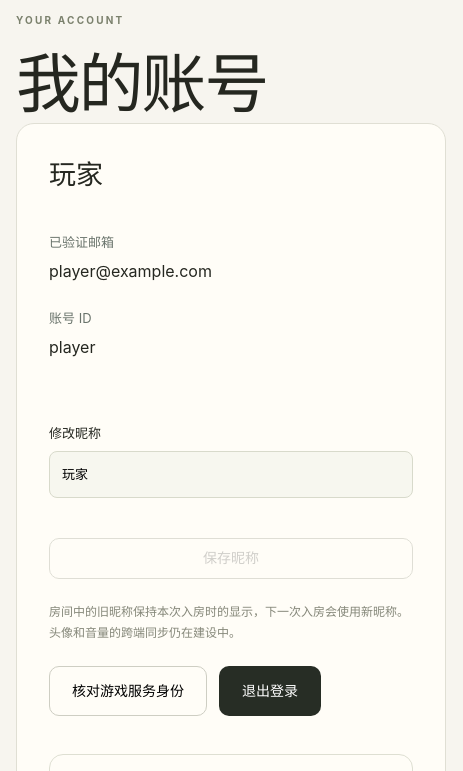
it: account screens › verifies the same identity on the account screen and logs out
Click the button "核对游戏服务身份". click: [128, 691]
box: [49,666,207,716]
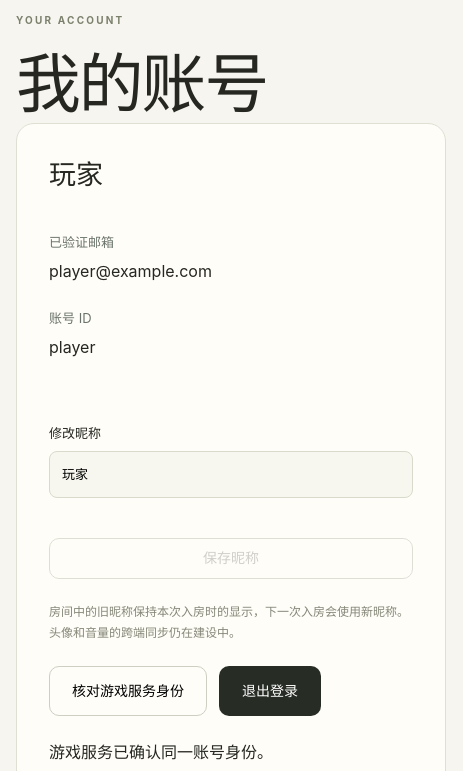
Expected: the text "同一账号身份" is shown, [49,742,273,762]
Click the button "退出登录". click: [270, 691]
box: [219,666,321,716]
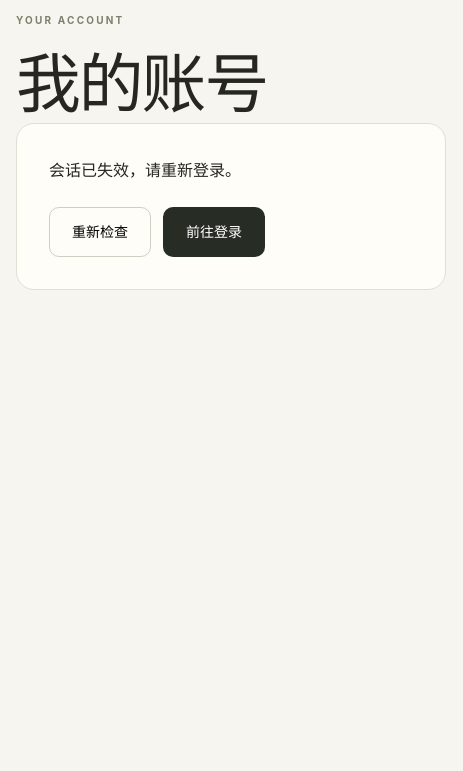
Expected: the text "player@example.com" is gone
